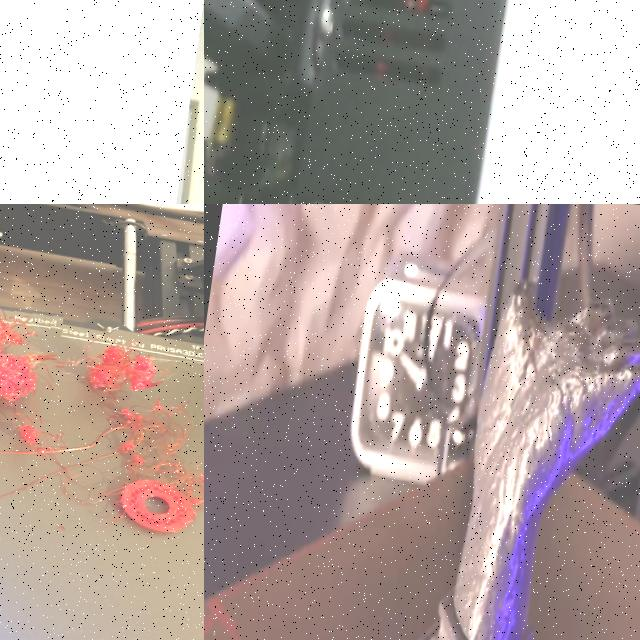spaghetti: (92, 397, 204, 517), (0, 296, 64, 417), (72, 334, 170, 403), (14, 423, 47, 452)
